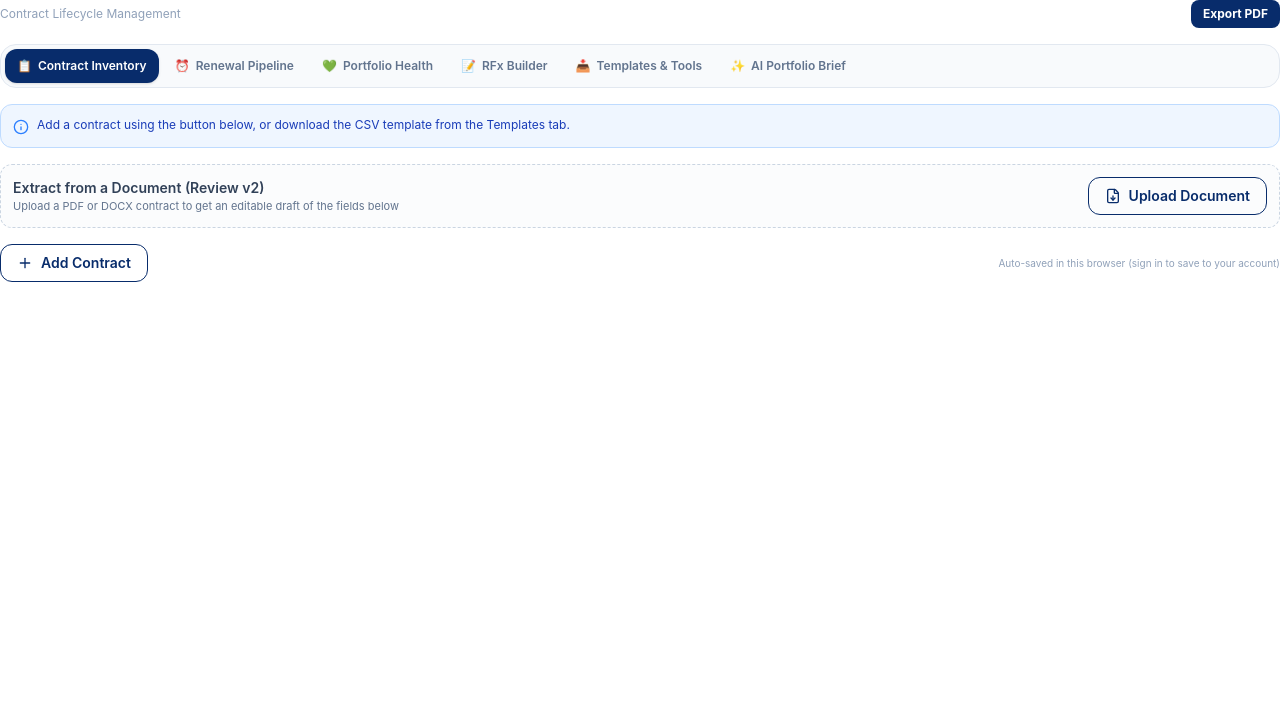
ContractHealthChecker — Option 3 model-clause library › shows a "View sourced model clause" toggle next to a subclause with a real library entry
Click the button "Add Contract".
click(74, 263)  # box [0,244,148,282]
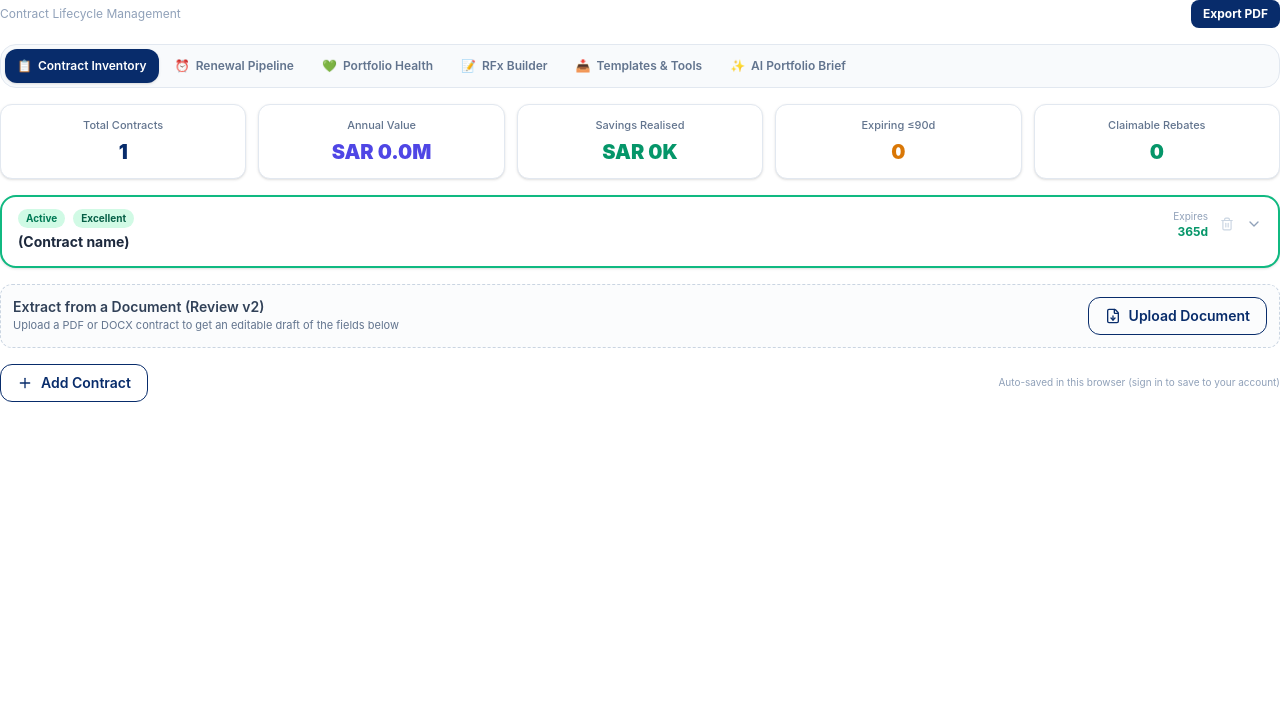
Click the text "(Contract name)".
click(74, 241)  # box [18,232,130,250]
(page scrolled)
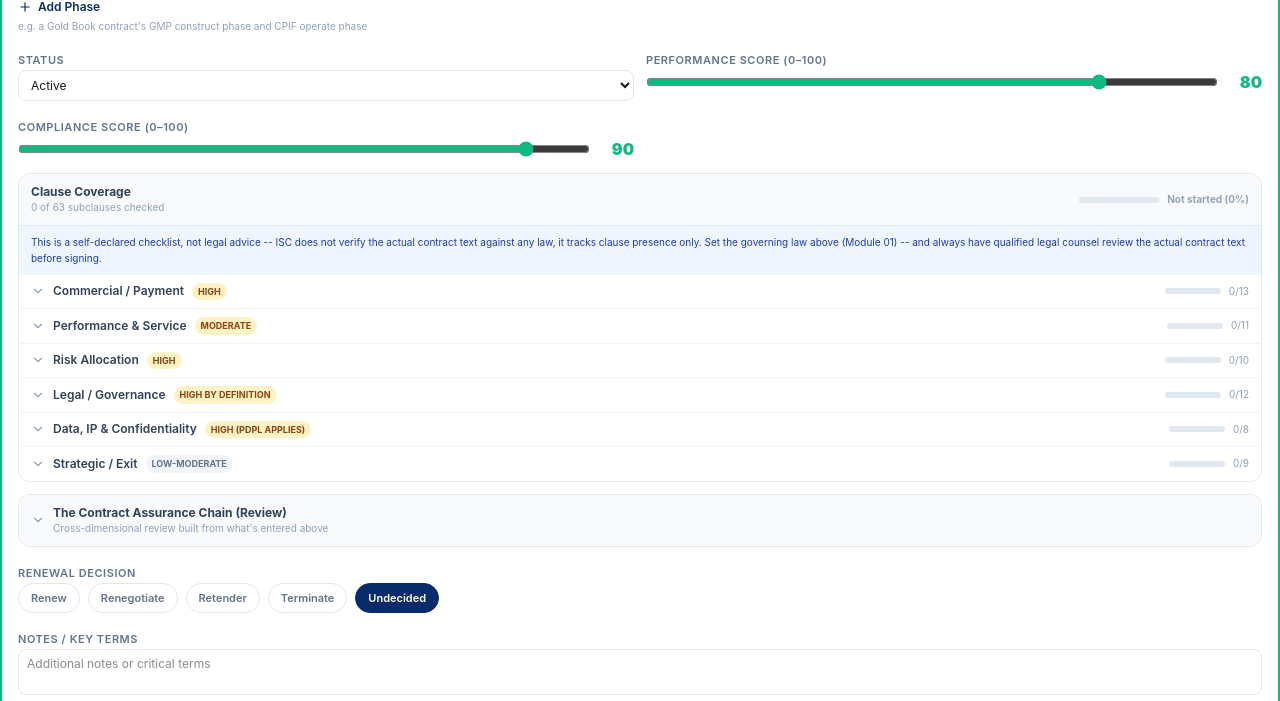
Expected: the button "Risk Allocation HIGH 0/10" is shown
Click the button "Risk Allocation HIGH 0/10".
click(96, 360)  # box [19,344,1261,377]
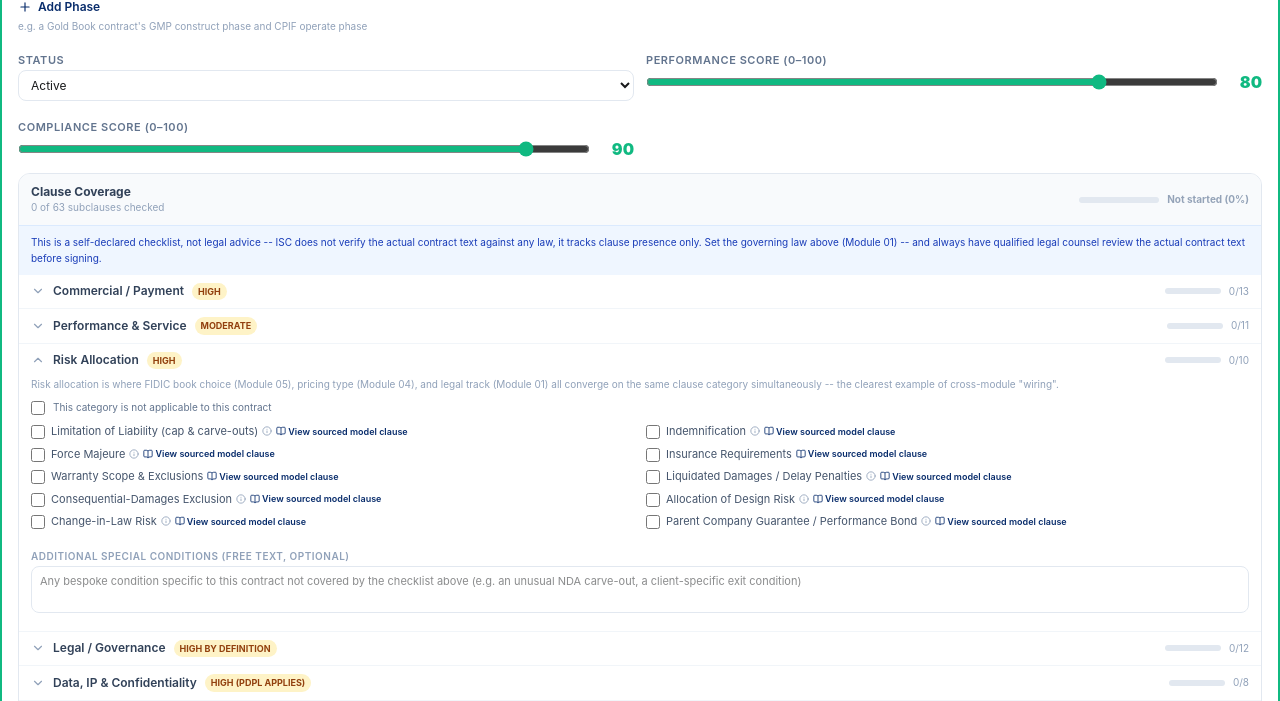
Expected: the 1st button "View sourced model clause" is shown, [276,424,408,438]
